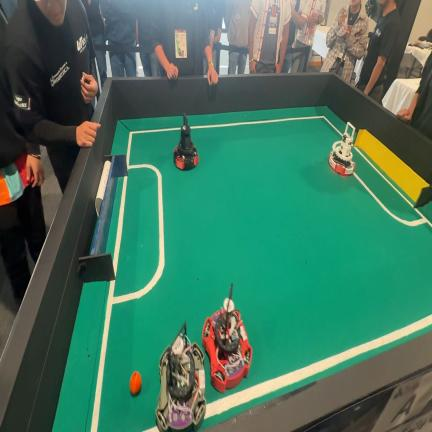cancha: (53, 108, 432, 432)
limites: (91, 128, 180, 432), (206, 314, 432, 418), (354, 150, 432, 227), (191, 116, 343, 136), (113, 179, 127, 276), (142, 426, 160, 432)
pelota: (130, 371, 141, 396)
porteria: (78, 155, 127, 282), (355, 129, 432, 207)
robot: (202, 283, 252, 393), (156, 322, 206, 432), (173, 114, 199, 170), (330, 122, 355, 175)
